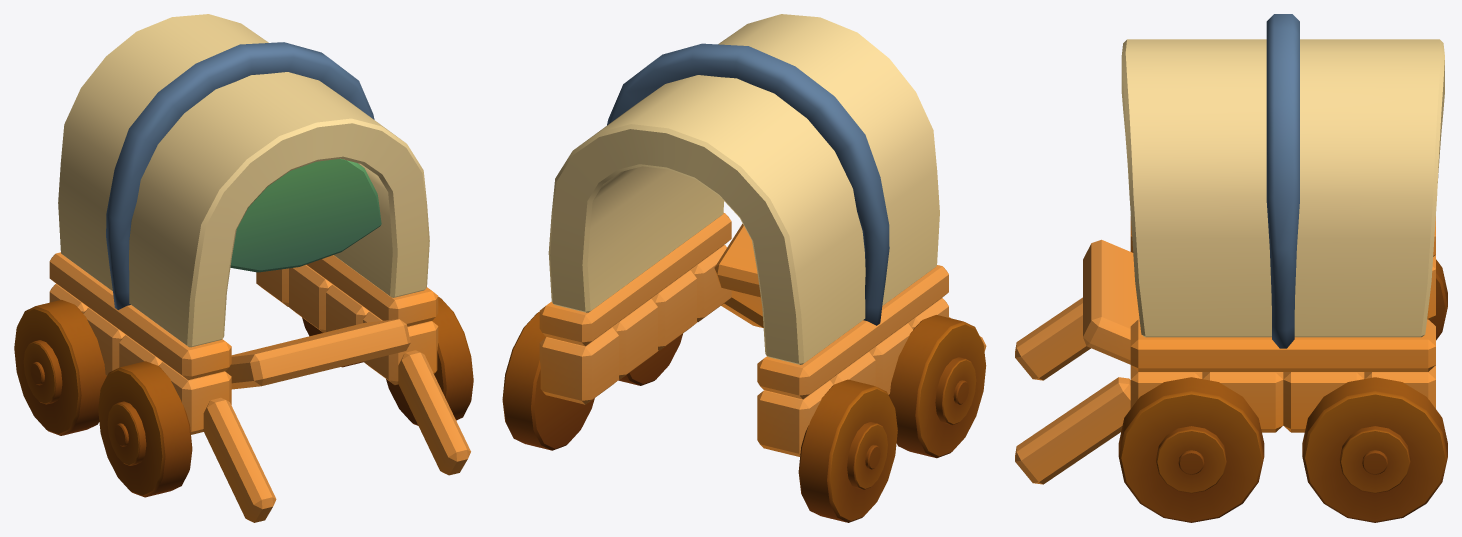
Rendered from Cart 1.fbx.
3 renders of one model, left to right at view 1: azimuth 30°, elevation 25°; view 2: azimuth 150°, elevation 25°; view 3: azimuth 270°, elevation 25°, orthographic. The views are drawn at different scales.
Visible parts, largest first — view 1: Cart.001, Cart.004, Cart.005, Cart.009, Cart.003, Cart.002, Cart.007, Cart.008; view 2: Cart.001, Cart.004, Cart.003, Cart.005, Cart.002, Cart.008, Cart.007; view 3: Cart.001, Cart.004, Cart.002, Cart.005, Cart.007, Cart.003, Cart.008.
Boxes of the visible parts, x1,y1,x2,y2 form: Cart.001: (58, 14, 429, 347); Cart.004: (14, 297, 473, 497); Cart.005: (106, 42, 374, 309); Cart.009: (230, 158, 381, 272); Cart.003: (49, 265, 438, 434); Cart.002: (49, 252, 438, 380); Cart.007: (203, 350, 470, 522); Cart.008: (225, 319, 410, 389); Cart.001: (548, 14, 939, 364); Cart.004: (502, 312, 986, 522); Cart.003: (539, 245, 948, 456); Cart.005: (607, 43, 889, 325); Cart.002: (539, 213, 948, 399); Cart.008: (714, 223, 760, 297); Cart.007: (721, 290, 986, 351); Cart.001: (1121, 39, 1444, 337); Cart.004: (1118, 259, 1447, 522); Cart.002: (1130, 216, 1435, 371); Cart.005: (1266, 14, 1299, 348); Cart.007: (1015, 297, 1130, 484); Cart.003: (1130, 255, 1435, 432); Cart.008: (1083, 239, 1139, 364).
Bounding box in the file's own units: 547 × 593 × 564.
